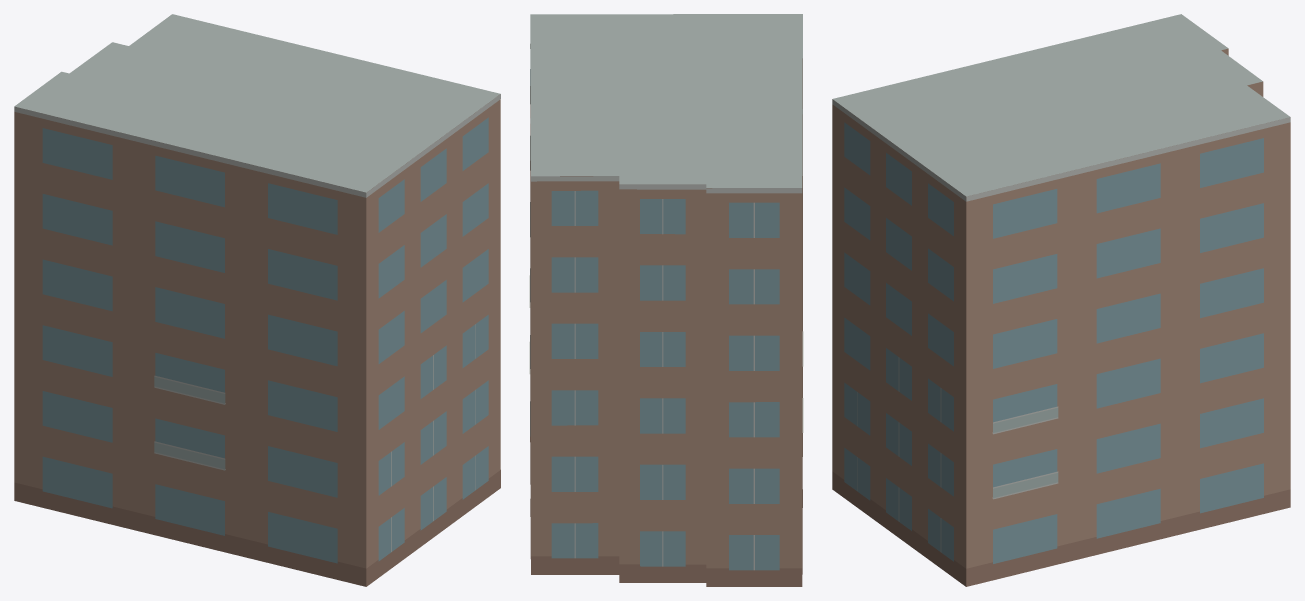
The model's file is survey-upis-33026269.glb.
3 views of the same model, side by side, from view 1: azimuth 30°, elevation 25°; view 2: azimuth 150°, elevation 25°; view 3: azimuth 270°, elevation 25° (orthographic). The views are drawn at different scales.
Visible parts, largest first — view 1: survey-upis-33026269.tmp; view 2: survey-upis-33026269.tmp; view 3: survey-upis-33026269.tmp.
Boxes of the visible parts, left/top/right/bottom form: survey-upis-33026269.tmp: left=14, top=14, right=500, bottom=586; survey-upis-33026269.tmp: left=529, top=14, right=803, bottom=586; survey-upis-33026269.tmp: left=832, top=14, right=1290, bottom=586.
Bounding box in the file's own units: 18.36 × 18.3 × 19.49.
